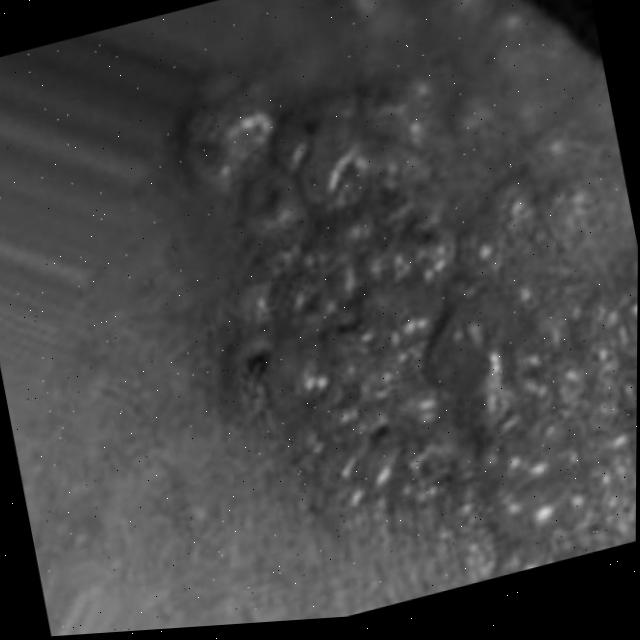Shingles: (141, 0, 640, 630)
